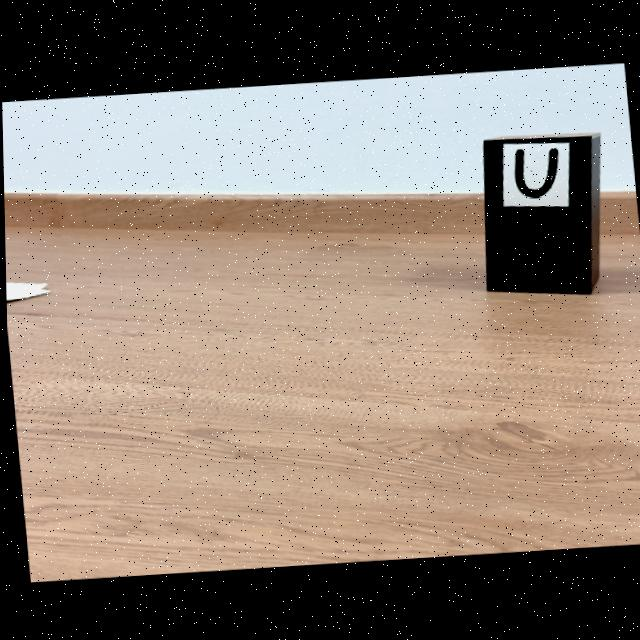U: (513, 148, 558, 196)
